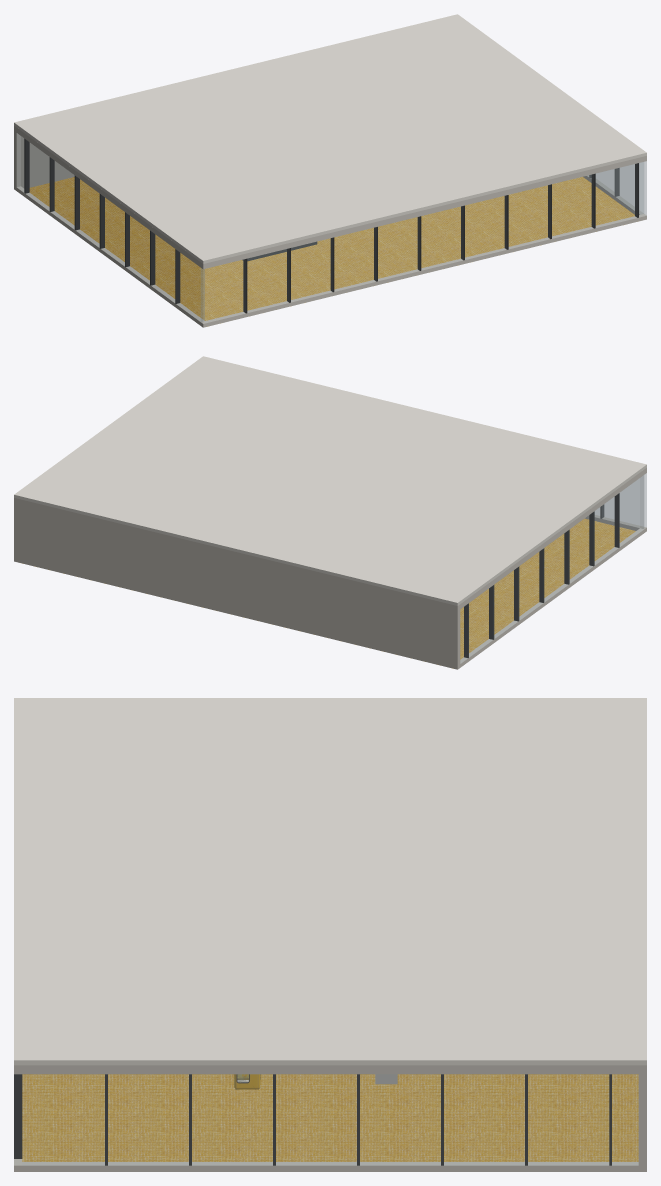
Rendered from inner-12.glb.
The picture shows the model from 3 angles, top to bottom: view 1: azimuth 30°, elevation 25°; view 2: azimuth 150°, elevation 25°; view 3: azimuth 270°, elevation 25°; orthographic projection. The views are drawn at different scales.
Visible parts, largest first — view 1: IN_ceiling, IN_floor, IN_glass_s, IN_glass_w, IN_wall_s_sill, IN_wall_s_head, IN_wall_n, IN_wall_w_sill, IN_glass_e, IN_wall_w_head; view 2: IN_ceiling, IN_wall_n, IN_glass_w, IN_floor, IN_wall_w_sill, IN_glass_s, IN_wall_w_head; view 3: IN_ceiling, IN_glass_e, IN_floor, IN_wall_e_head, IN_wall_e_sill, IN_wall_n, IN_mullion_s_10, IN_glass_s.
Part boxes in pixels (x1,y1,x2,y2): IN_ceiling: [14, 14, 646, 263]; IN_floor: [29, 177, 634, 320]; IN_glass_s: [201, 161, 646, 323]; IN_glass_w: [17, 133, 204, 321]; IN_wall_s_sill: [200, 214, 646, 327]; IN_wall_s_head: [200, 156, 646, 269]; IN_wall_n: [14, 126, 74, 190]; IN_wall_w_sill: [16, 186, 203, 325]; IN_glass_e: [588, 162, 643, 214]; IN_wall_w_head: [16, 128, 200, 266]; IN_ceiling: [14, 356, 646, 605]; IN_wall_n: [14, 498, 460, 669]; IN_glass_w: [460, 475, 643, 663]; IN_floor: [460, 518, 635, 659]; IN_wall_w_sill: [460, 528, 644, 667]; IN_glass_s: [595, 473, 646, 528]; IN_wall_w_head: [460, 470, 644, 608]; IN_ceiling: [14, 698, 646, 1065]; IN_glass_e: [22, 1074, 638, 1165]; IN_floor: [22, 1074, 638, 1161]; IN_wall_e_head: [22, 1065, 638, 1074]; IN_wall_e_sill: [22, 1162, 638, 1171]; IN_wall_n: [638, 1065, 646, 1171]; IN_mullion_s_10: [14, 1074, 22, 1158]; IN_glass_s: [14, 1075, 21, 1164].
Bounding box in the file's own units: 30.6 × 4.4 × 22.6.
Materials: 11 (5 with a texture image).
